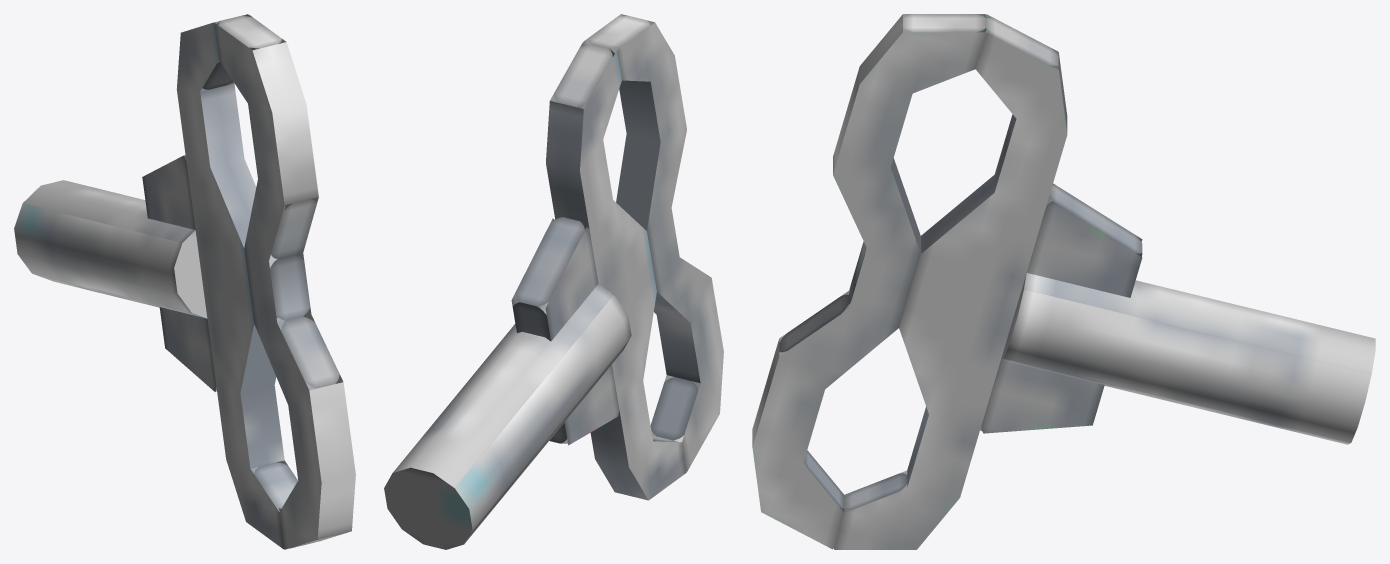
Rendered from wind up key.fbx.
The picture shows the model from 3 angles, left to right: view 1: azimuth 30°, elevation 25°; view 2: azimuth 150°, elevation 25°; view 3: azimuth 270°, elevation 25°; orthographic projection. The views are drawn at different scales.
Parts seen in each view (by area): view 1: cuboid_12.001; view 2: cuboid_12.001; view 3: cuboid_12.001.
Part boxes in pixels (x1,y1,x2,y2): cuboid_12.001: [14, 14, 355, 549]; cuboid_12.001: [384, 14, 723, 549]; cuboid_12.001: [752, 14, 1375, 549].
Bounding box in the file's own units: 0.16 × 0.8503 × 0.9274.
